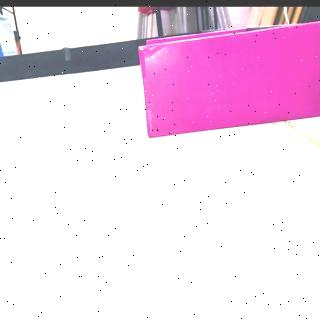xparking: (141, 42, 320, 129)
